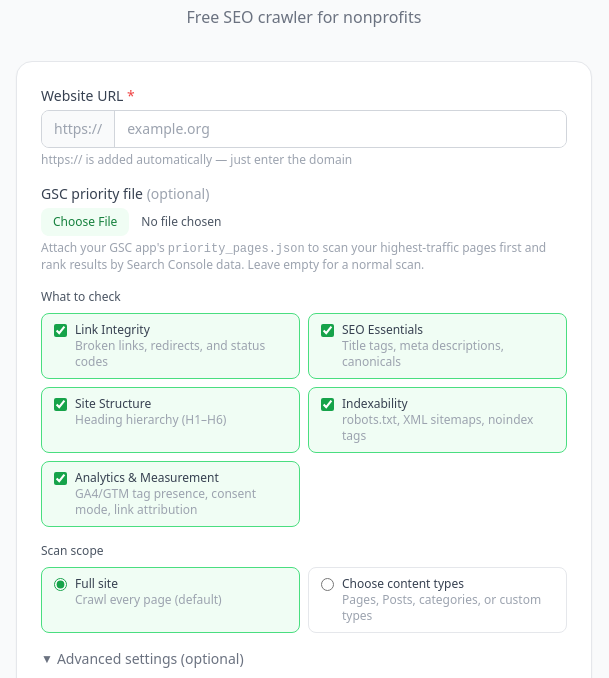
Test: Home — info detail setting › offers the four levels, defaulting to all
This screenshot has width=609, height=678.
Click the button "▼ Advanced settings (optional)" at (142, 659), box [41, 649, 244, 669]
(page scrolled)
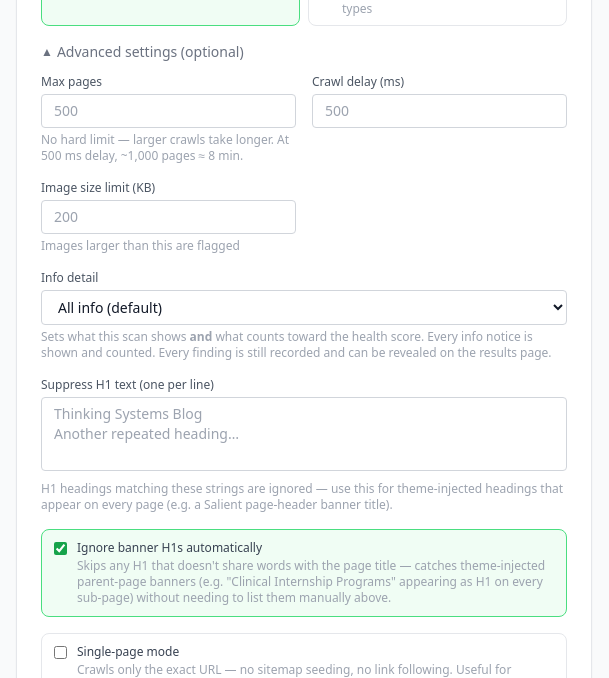
Now the dropdown labelled "Info detail" shows "All info (default)", box [41, 290, 567, 325]
Now the text "what counts toward the health score" is shown, box [212, 328, 424, 345]
